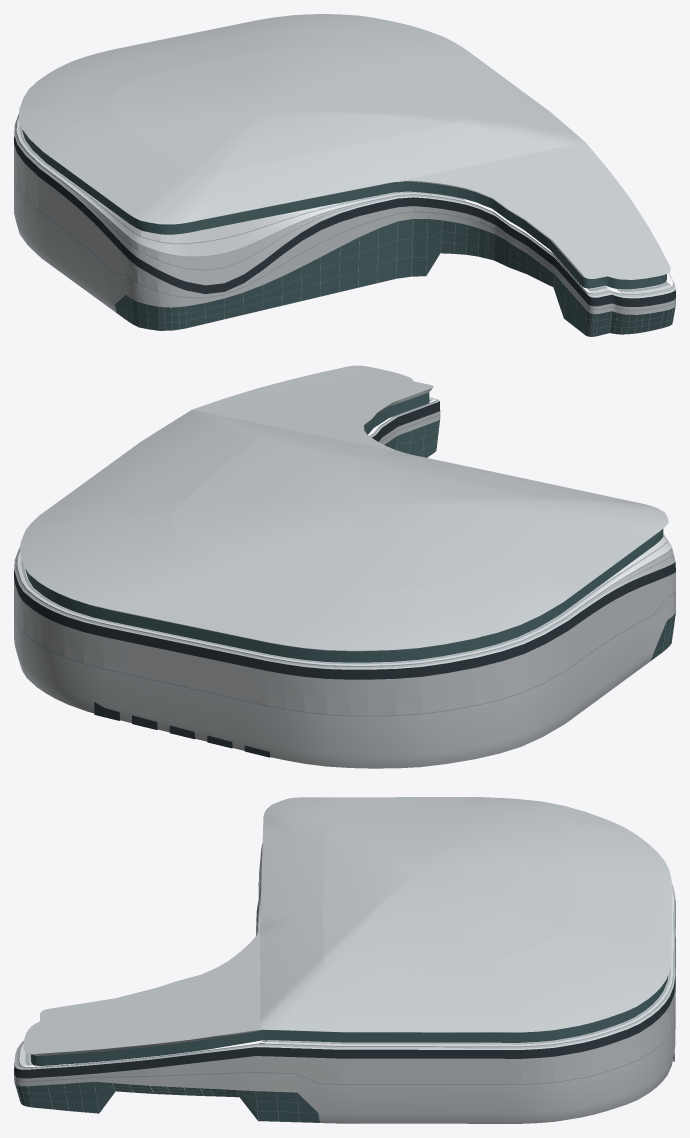
File: rogers-place-far.glb
The picture shows the model from 3 angles, top to bottom: view 1: azimuth 30°, elevation 25°; view 2: azimuth 150°, elevation 25°; view 3: azimuth 270°, elevation 25°; orthographic projection. The views are drawn at different scales.
Parts seen in each view (by area): view 1: rogers-place-0-silver, rogers-place-0-roof, rogers-place-0-glass, rogers-place-0-shadow, rogers-place-0-highlight, rogers-place-0-seam, rogers-place-0-frame; view 2: rogers-place-0-silver, rogers-place-0-roof, rogers-place-0-glass, rogers-place-0-shadow, rogers-place-0-seam, rogers-place-0-highlight; view 3: rogers-place-0-silver, rogers-place-0-roof, rogers-place-0-glass, rogers-place-0-shadow, rogers-place-0-seam, rogers-place-0-highlight, rogers-place-0-frame.
Boxes of the visible parts, <box> form: rogers-place-0-silver: <box>14,14,675,314</box>; rogers-place-0-roof: <box>110,48,670,279</box>; rogers-place-0-glass: <box>22,130,675,336</box>; rogers-place-0-shadow: <box>14,135,675,306</box>; rogers-place-0-highlight: <box>16,118,671,293</box>; rogers-place-0-seam: <box>14,116,675,310</box>; rogers-place-0-frame: <box>115,219,675,336</box>; rogers-place-0-silver: <box>14,388,675,768</box>; rogers-place-0-roof: <box>172,365,549,589</box>; rogers-place-0-glass: <box>25,392,675,662</box>; rogers-place-0-shadow: <box>14,401,675,757</box>; rogers-place-0-seam: <box>14,399,675,716</box>; rogers-place-0-highlight: <box>17,397,671,665</box>; rogers-place-0-silver: <box>14,797,675,1123</box>; rogers-place-0-roof: <box>23,823,570,1053</box>; rogers-place-0-glass: <box>14,975,668,1122</box>; rogers-place-0-shadow: <box>14,882,675,1078</box>; rogers-place-0-seam: <box>14,850,675,1084</box>; rogers-place-0-highlight: <box>19,843,673,1065</box>; rogers-place-0-frame: <box>16,1082,319,1122</box>.
Bounding box in the file's own units: 164 × 43 × 206.
